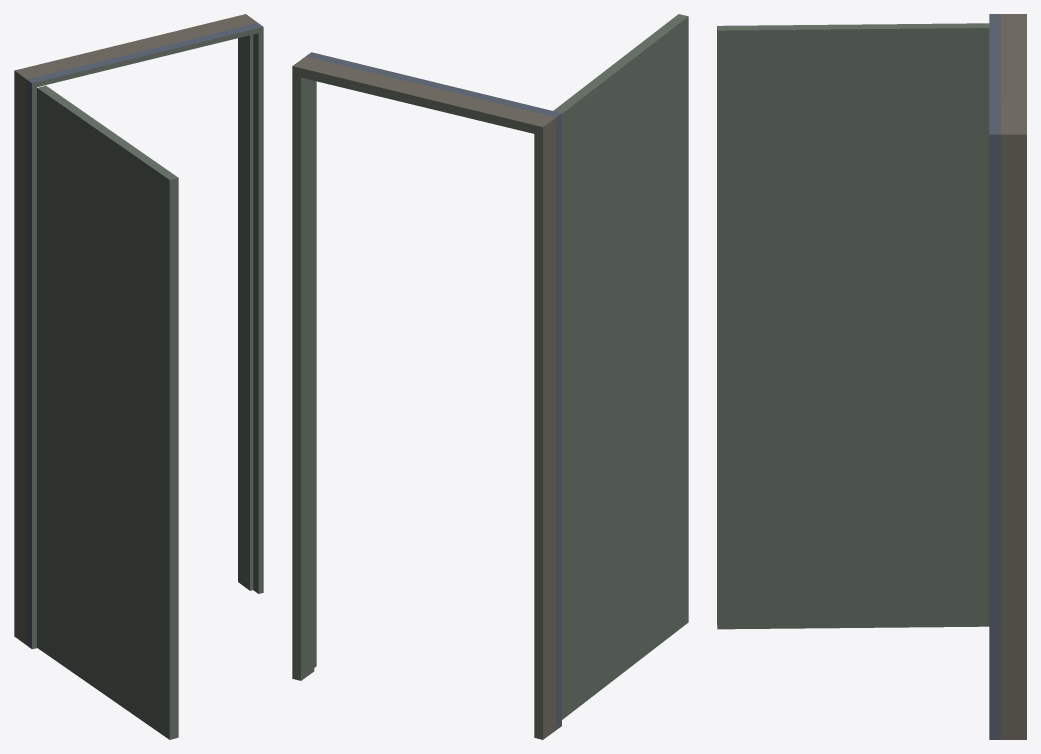
The model's file is Int_Door_Std_Rh.fbx.
3 views of the same model, side by side, from view 1: azimuth 30°, elevation 25°; view 2: azimuth 150°, elevation 25°; view 3: azimuth 270°, elevation 25° (orthographic). The views are drawn at different scales.
Parts seen in each view (by area): view 1: Int_Door_Std_Rh; view 2: Int_Door_Std_Rh; view 3: Int_Door_Std_Rh.
Boxes of the visible parts, x1,y1,x2,y2 form: Int_Door_Std_Rh: [14, 14, 263, 739]; Int_Door_Std_Rh: [292, 14, 688, 739]; Int_Door_Std_Rh: [717, 14, 1026, 739].
Size of the model in its own units: 90 by 210 by 97.53.
